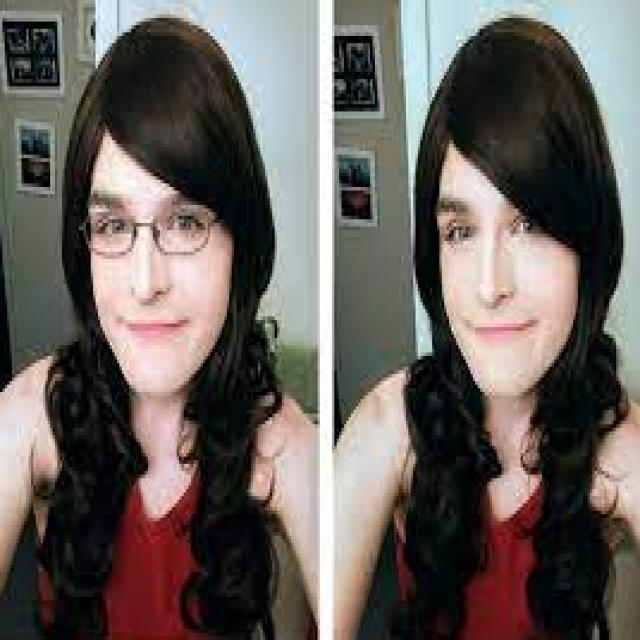Glasses: (77, 200, 227, 262)
